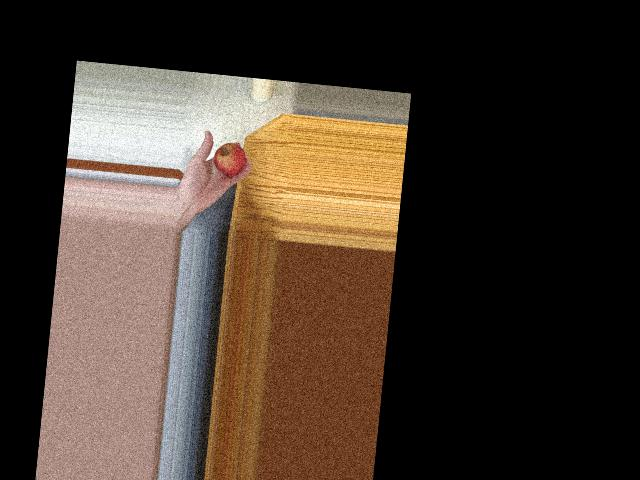apple: (209, 140, 247, 179)
